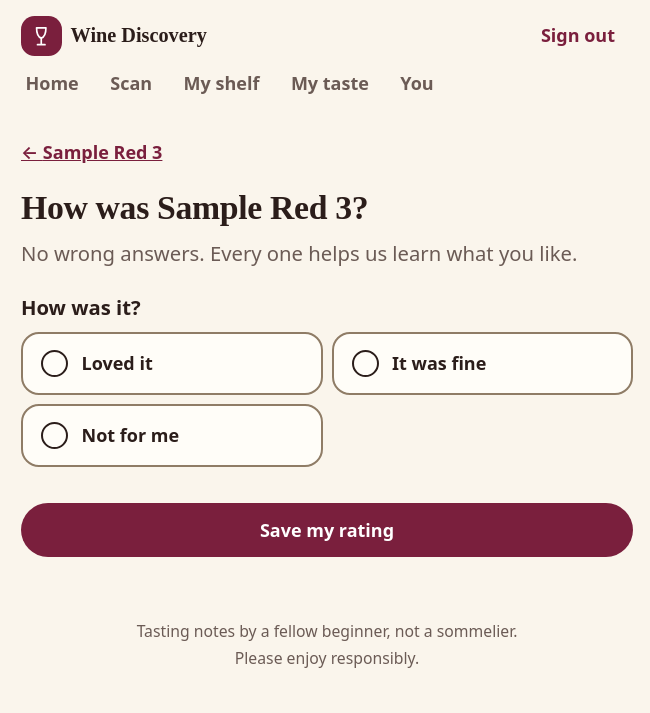
it: Rate screen › "Loved it" saves, says something warm, and teaches the profile
Click the radio button labelled "Loved it" at coordinates (117, 363), box [21,332,322,395]
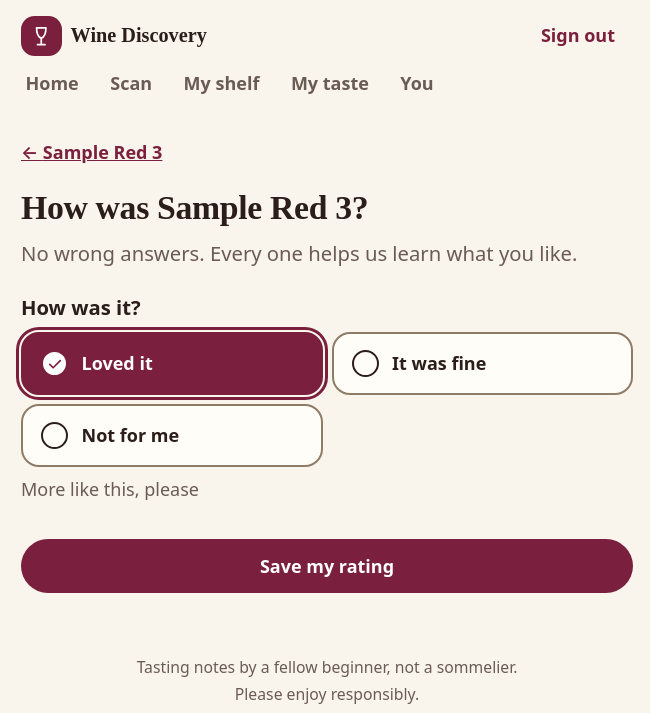
Click the button "Save my rating" at coordinates (327, 566), box [21,539,633,593]
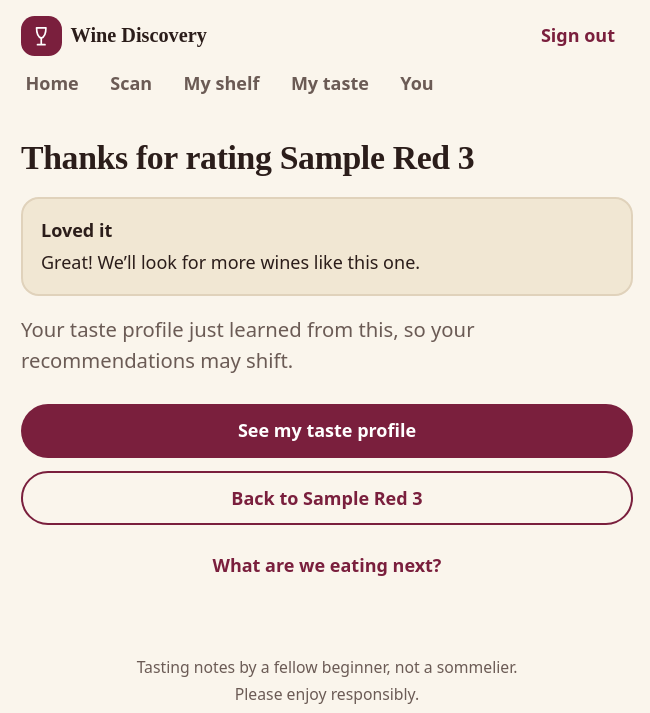
Expected: the text "Great! We’ll look for more wines like this one." is shown, [41,250,420,274]
Click the link "See my taste profile" at coordinates (327, 431), box [21,404,633,458]
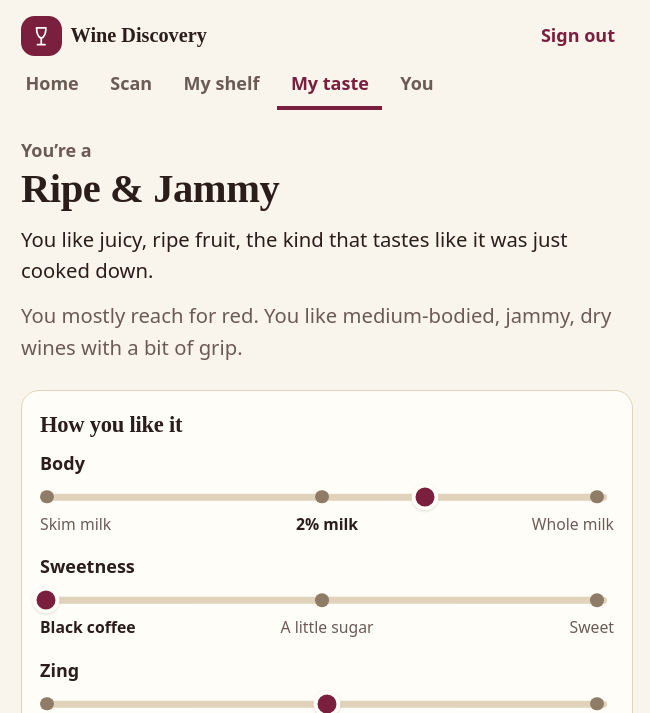
Expected: the element "Body Skim milk 2% milk Whole milk" is shown, [40,441,614,544]
